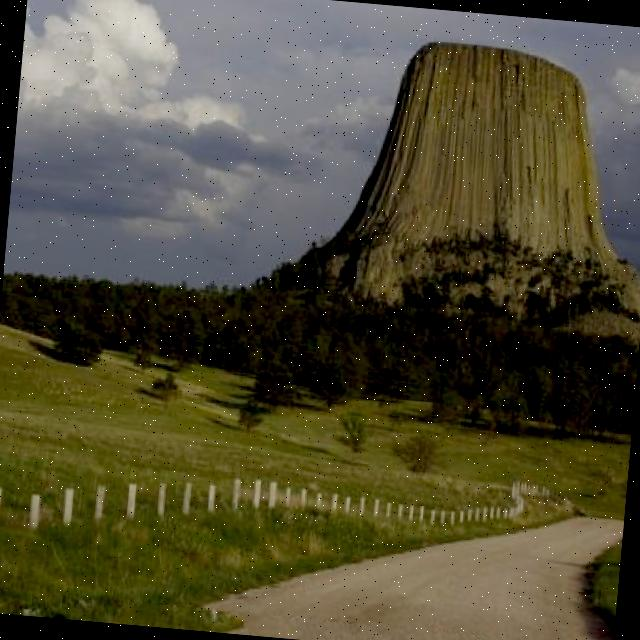Cu: (10, 1, 314, 234)
